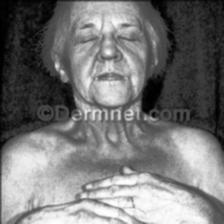Unclassified: (86, 153, 118, 179)
